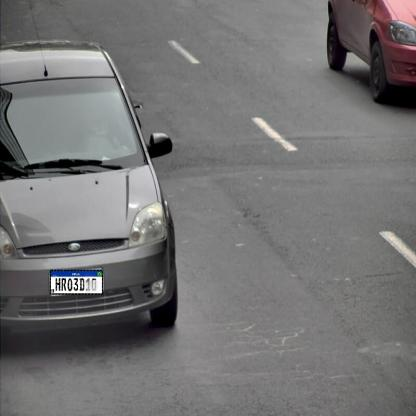PlacaM: (50, 270, 103, 294)
